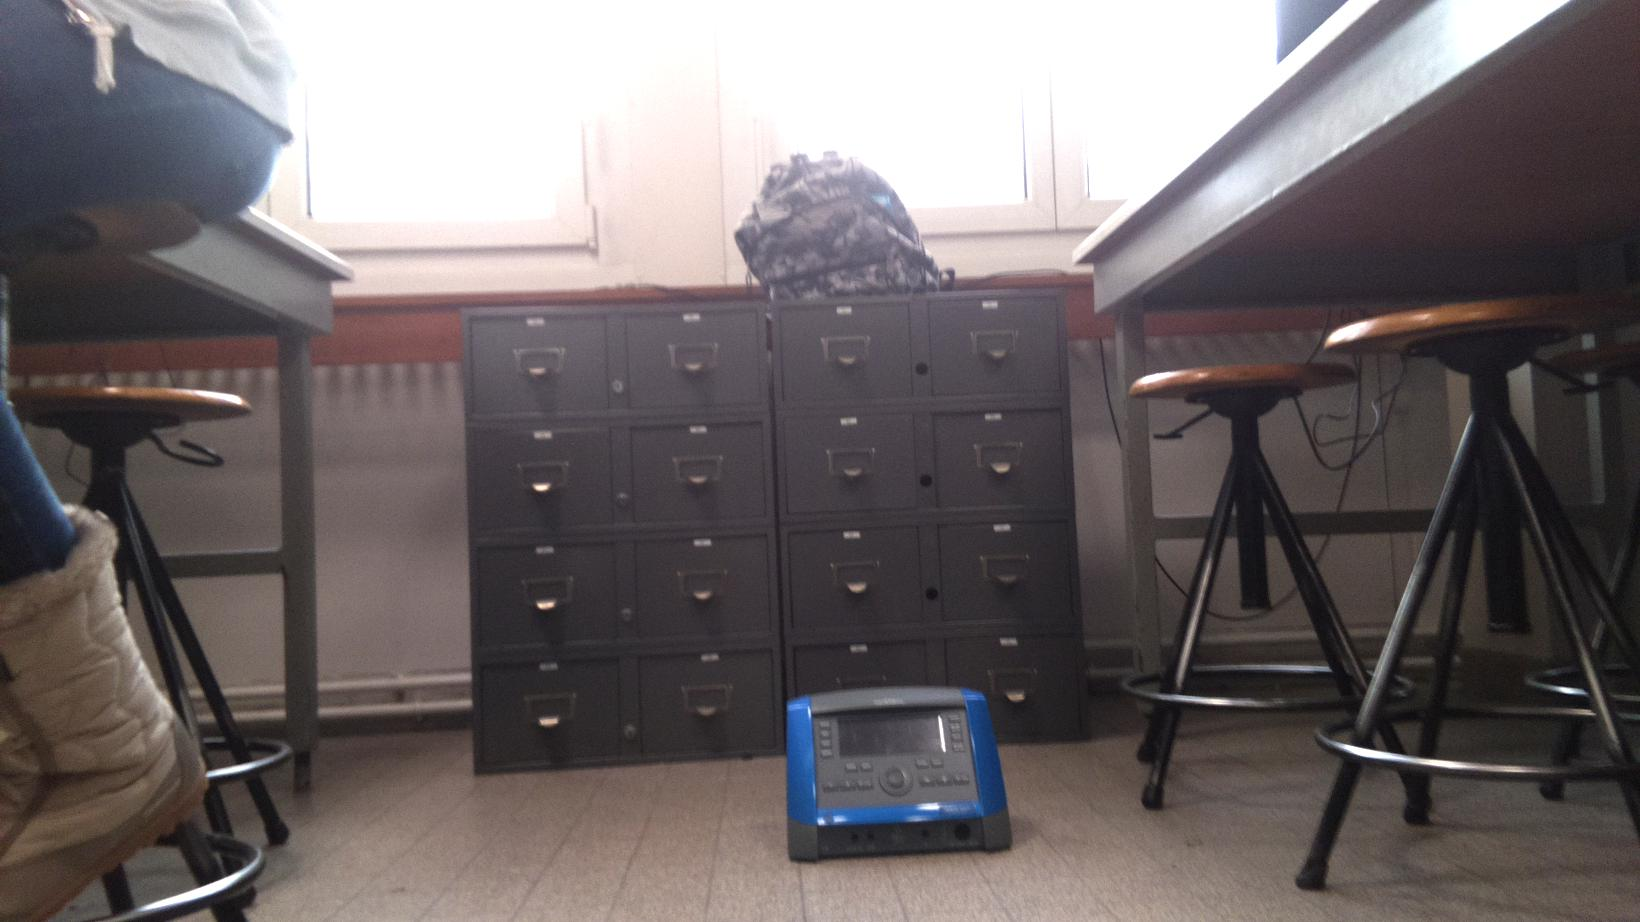big: (738, 159, 935, 289)
medium: (787, 683, 1019, 860)
